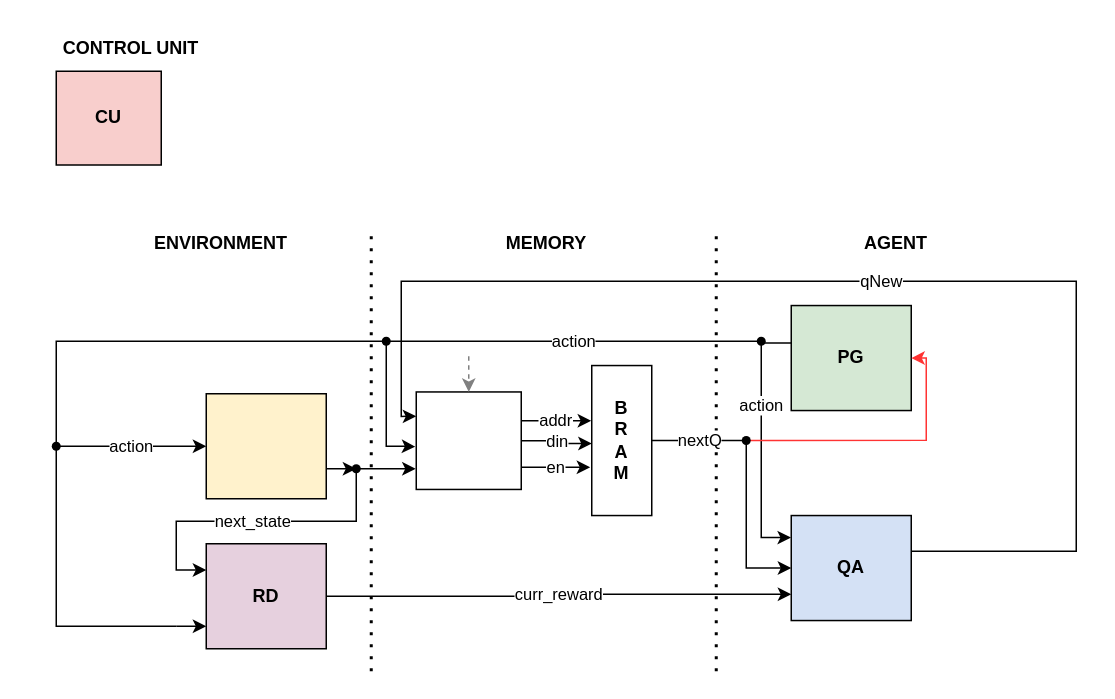
Image size: 1115x699. Some labels were removed from this diagram. The centre of each missing label's shape, as x and y in pixels:
"BRAM Input Interface" belongs at (468,439).
"SD" belongs at (265,445).
